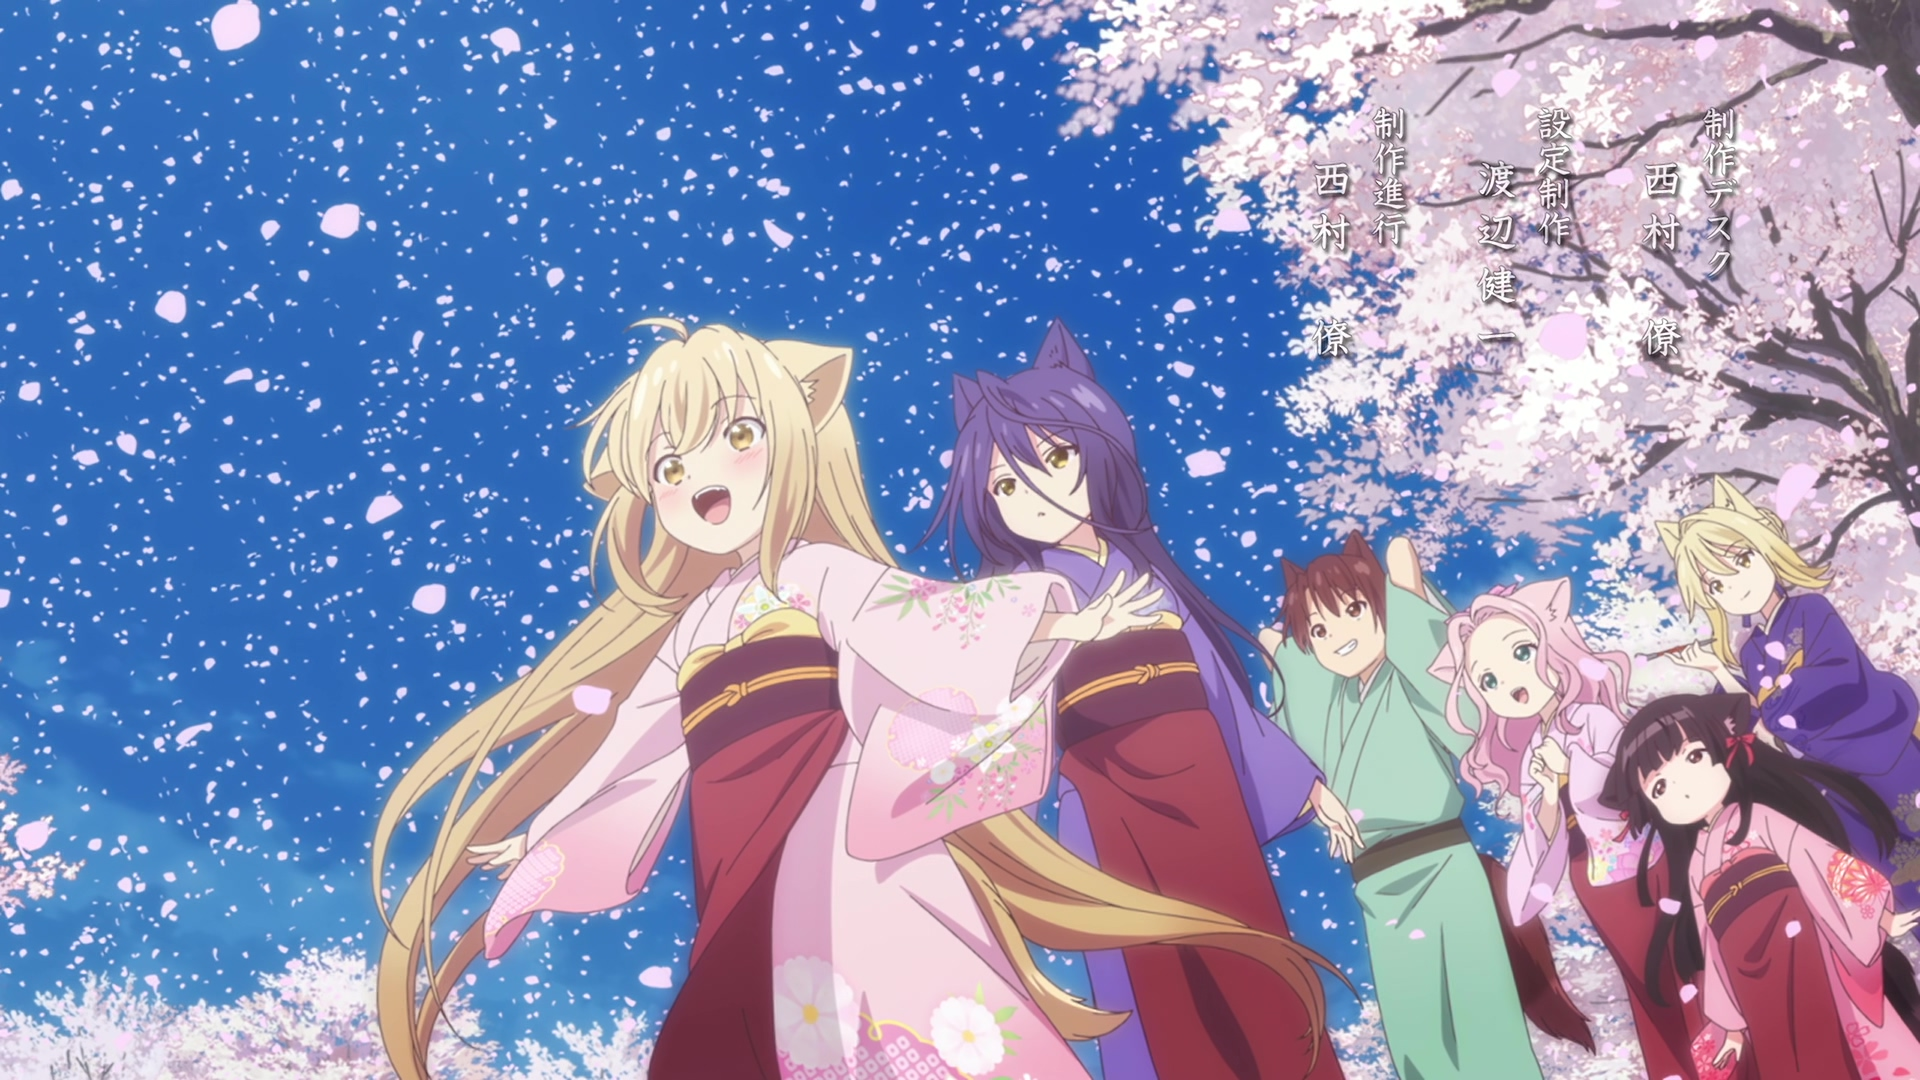枣: (1251, 537, 1600, 1080)
柚: (371, 316, 1364, 1080)
桐: (1654, 473, 1920, 926)
樱: (1600, 694, 1920, 1080)
皋: (906, 319, 1364, 1080)
莲: (1429, 576, 1706, 1080)
